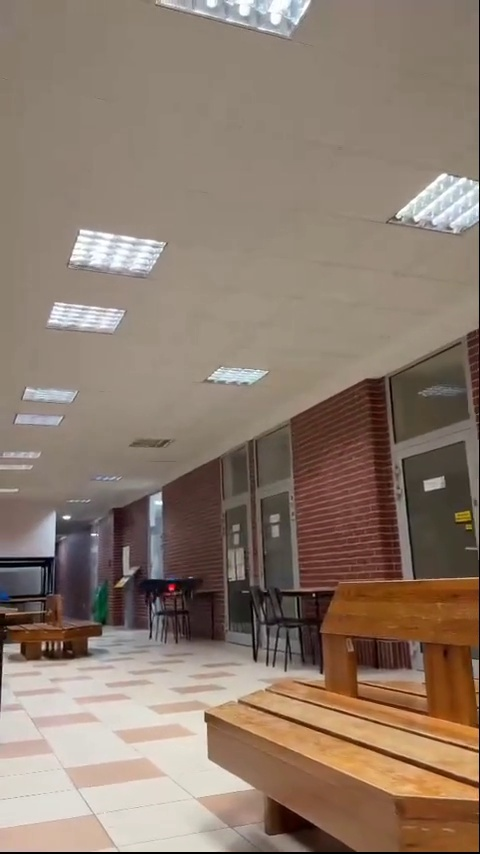drone: (135, 575, 204, 599)
